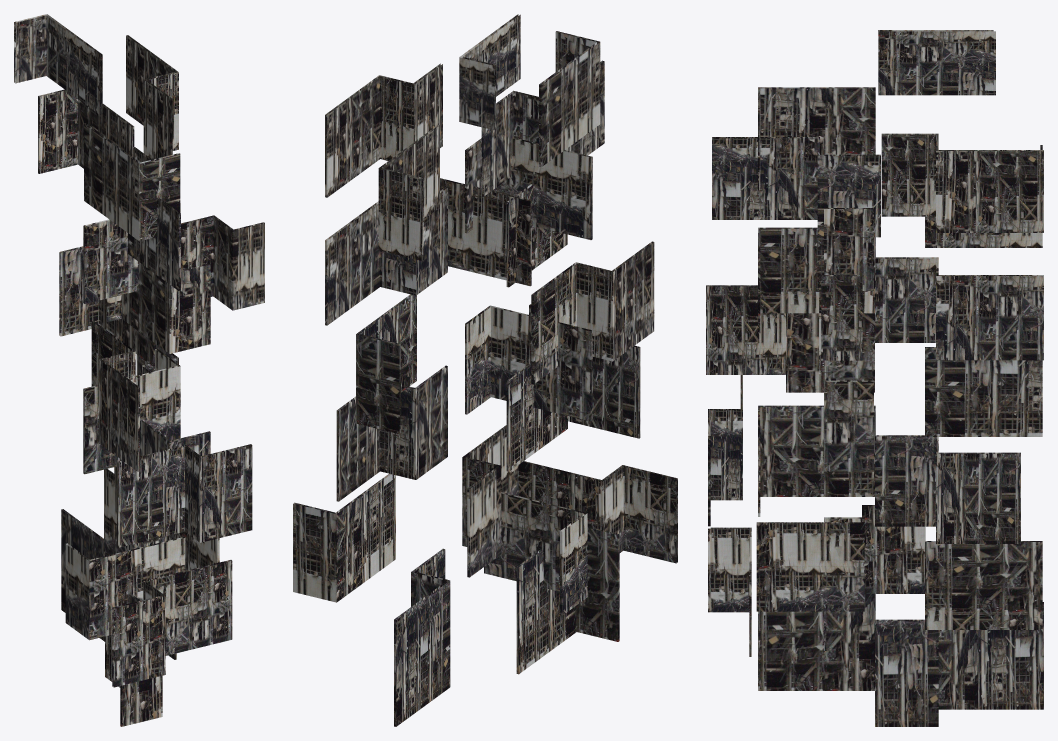
The model's file is wrak_steny.FBX.
The picture shows the model from 3 angles, left to right: view 1: azimuth 30°, elevation 25°; view 2: azimuth 150°, elevation 25°; view 3: azimuth 270°, elevation 25°; orthographic projection. The views are drawn at different scales.
Parts seen in each view (by area): view 1: wrak_steny; view 2: wrak_steny; view 3: wrak_steny.
Boxes of the visible parts, left/top/right/bottom form: wrak_steny: left=14, top=14, right=264, bottom=726; wrak_steny: left=293, top=14, right=677, bottom=726; wrak_steny: left=706, top=30, right=1043, bottom=726.
Bounding box in the file's own units: 2971 × 8664 × 4031.
